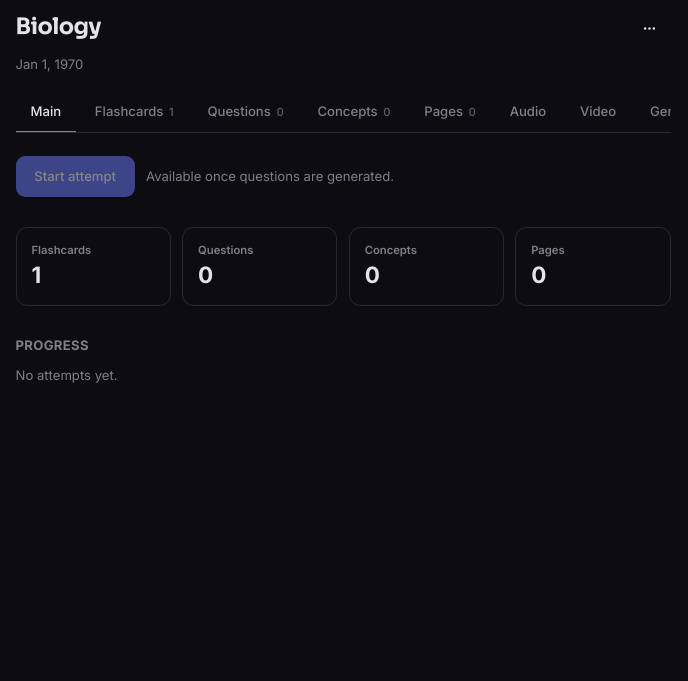
it: PrepPage concepts › shows a flashcard's generation cost under the card
The image size is (688, 681).
What coordinates should you click on to do the following:
click the tab "Flashcards1"
I would click on:
 (134, 113)
Its box is [80,92,189,133].
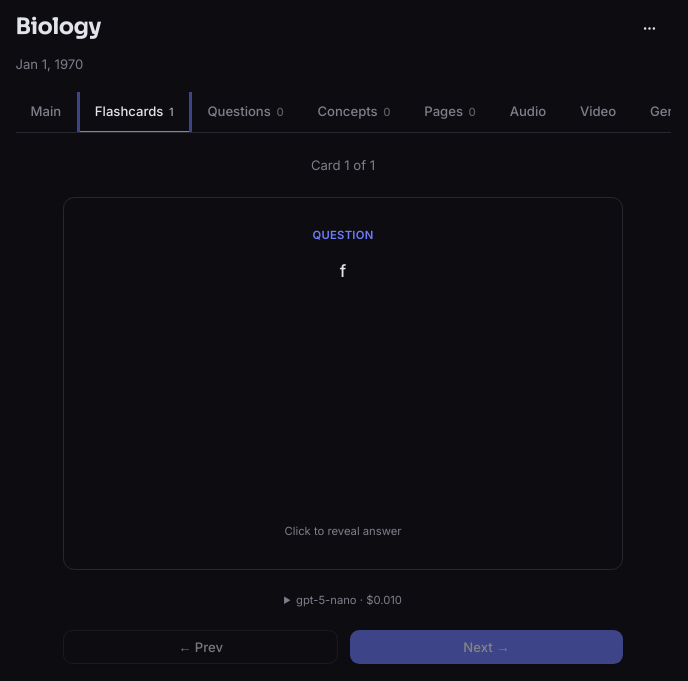
Result: the heading "gpt-5-nano · $0.010" is shown at [284,593,402,608]
